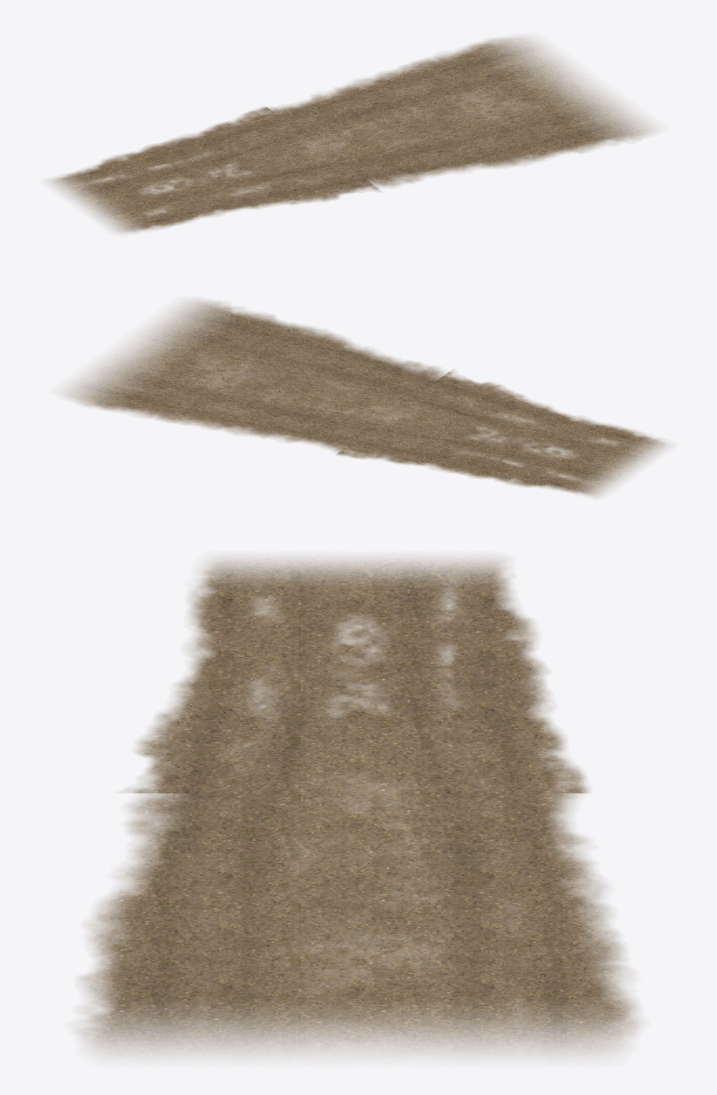
Rendered from road_line_main_street.glb.
3 renders of one model, top to bottom at view 1: azimuth 30°, elevation 25°; view 2: azimuth 150°, elevation 25°; view 3: azimuth 270°, elevation 25°, orthographic. The views are drawn at different scales.
Parts seen in each view (by area): view 1: road_line_main_street; view 2: road_line_main_street; view 3: road_line_main_street.
Part boxes in pixels (x1=…): road_line_main_street: x1=48, y1=37, x2=654, y2=233; road_line_main_street: x1=64, y1=300, x2=669, y2=497; road_line_main_street: x1=78, y1=557, x2=640, y2=1055.
Bounding box in the file's own units: 24.33 × 0 × 13.
1 material, 1 textured.
